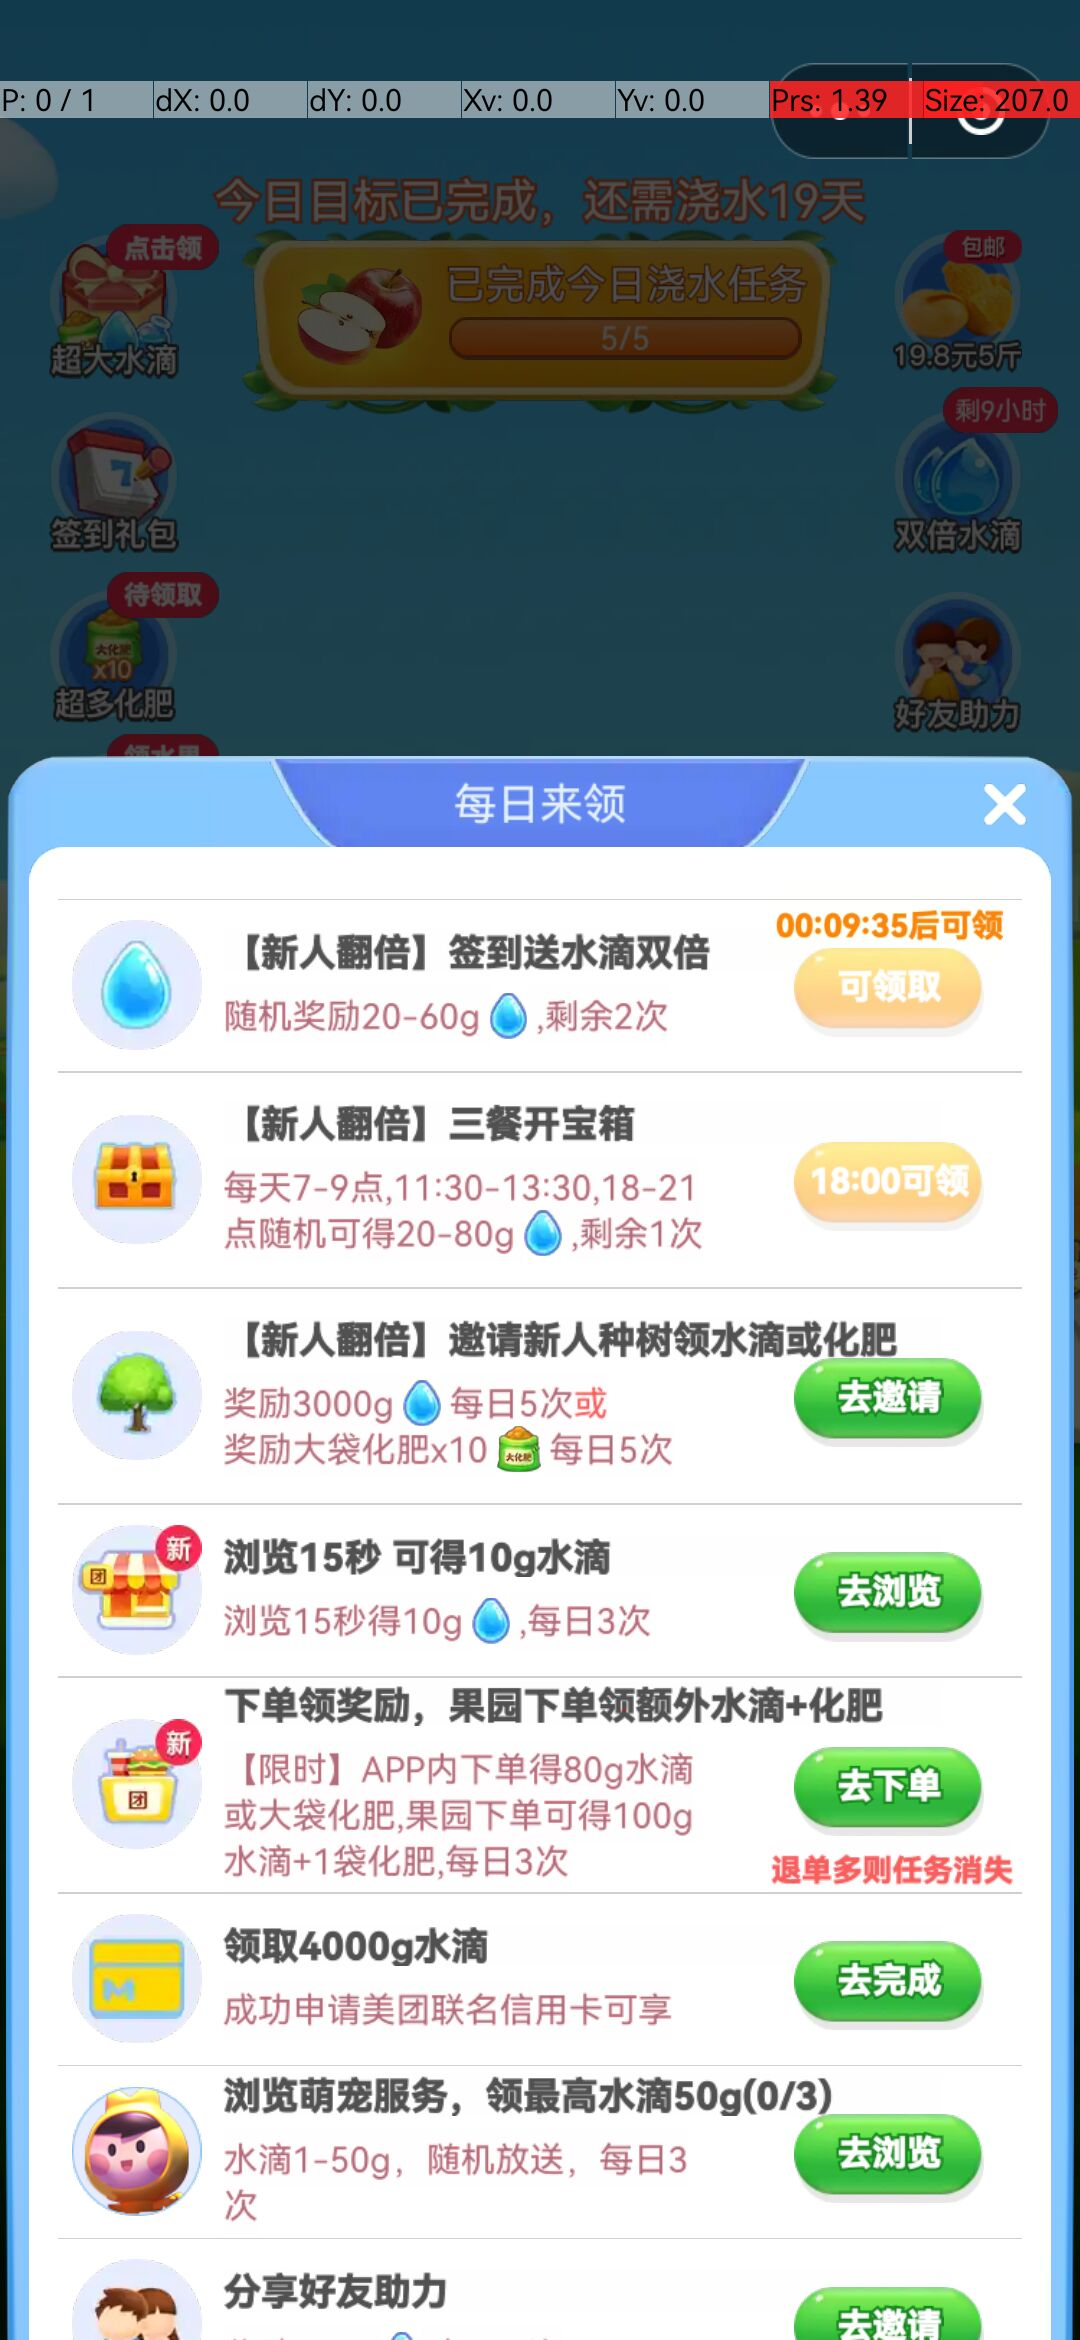popup: (980, 780, 1034, 824)
